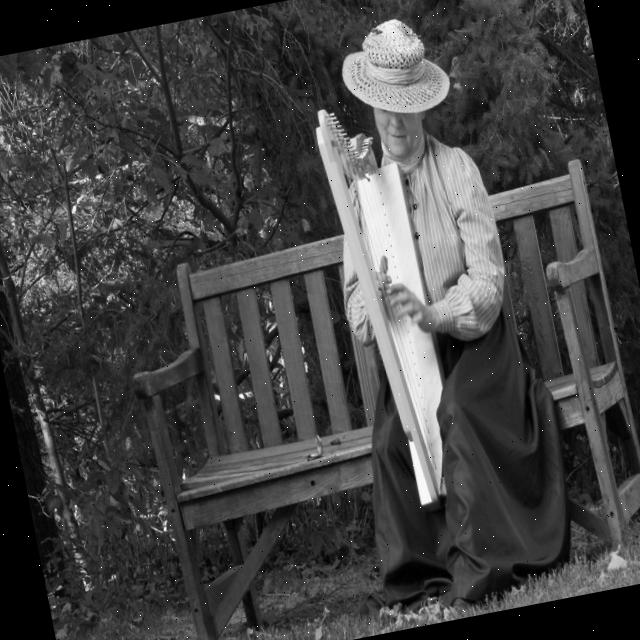harp: (309, 92, 470, 519)
